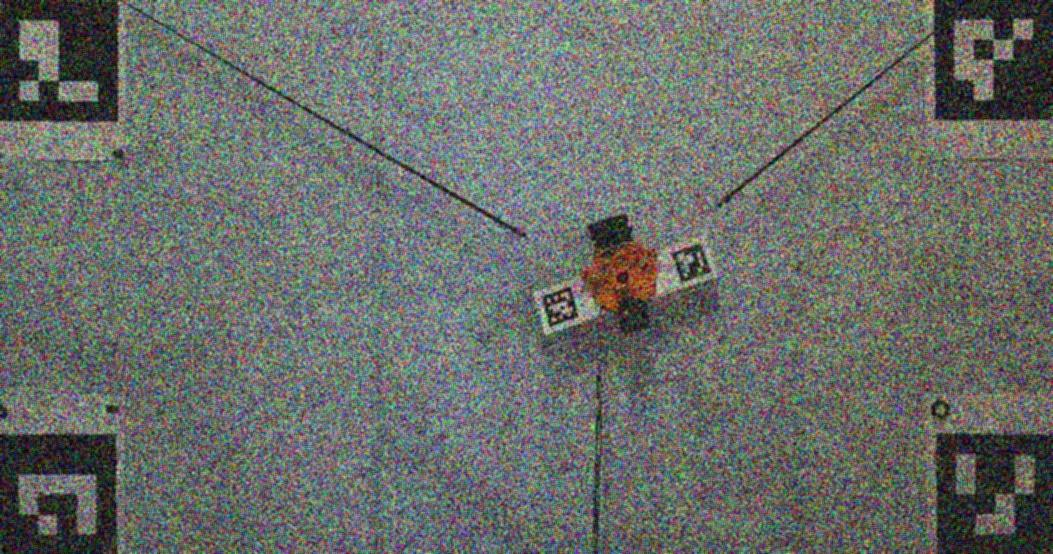robot: (582, 213, 659, 335)
